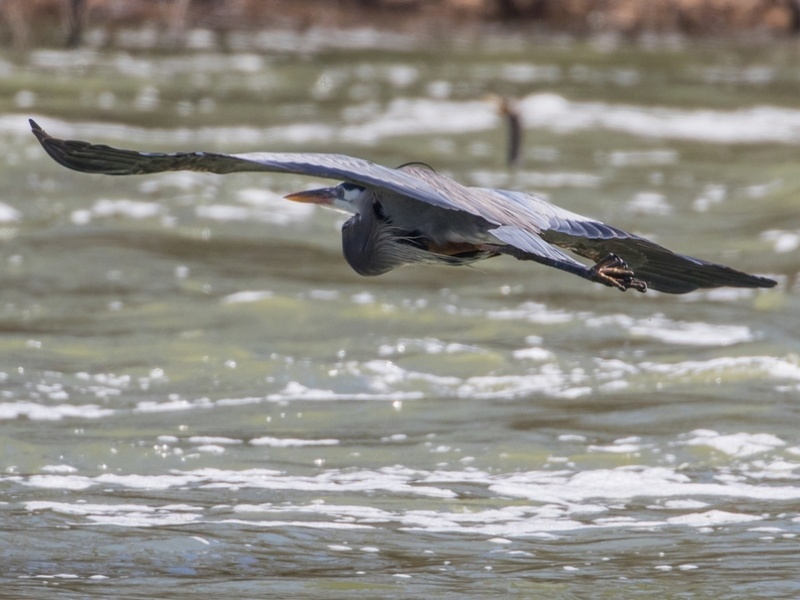heron: (27, 116, 782, 304)
